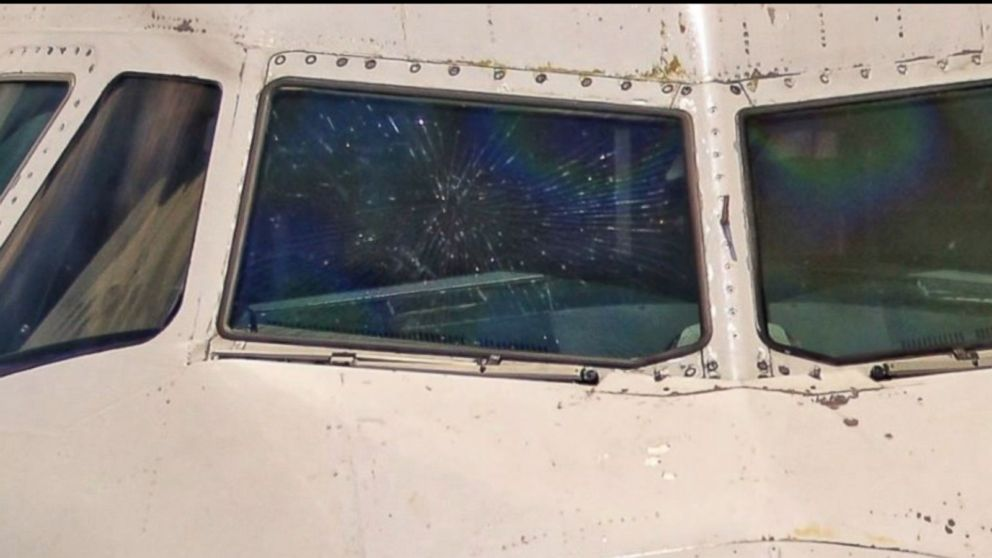crack: (333, 136, 652, 319)
